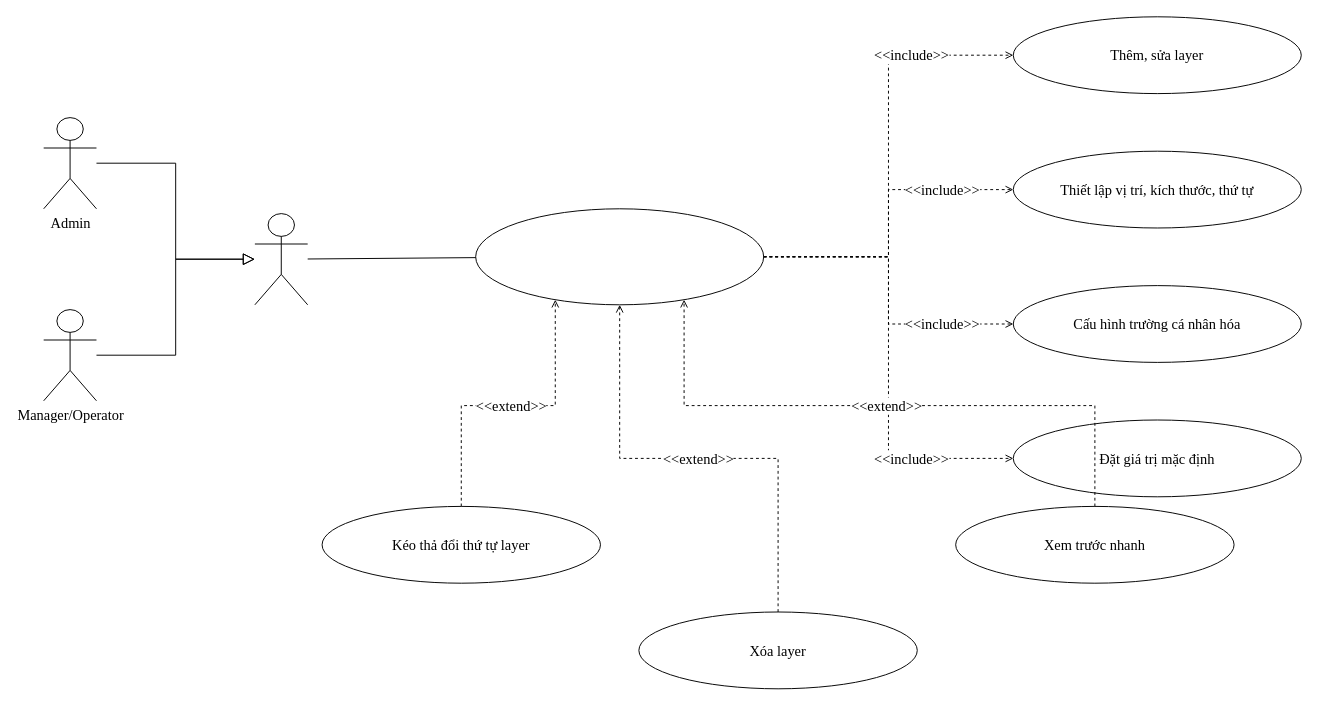
The diagram is 1318 pixels wide and 706 high, and some of its shapes have lost their labels. The centre of each missing label's shape, as x and y in pixels:
Nhân viên quản lý: pixel 281 259
Quản lý layer và cá nhân hóa: pixel 619 256
